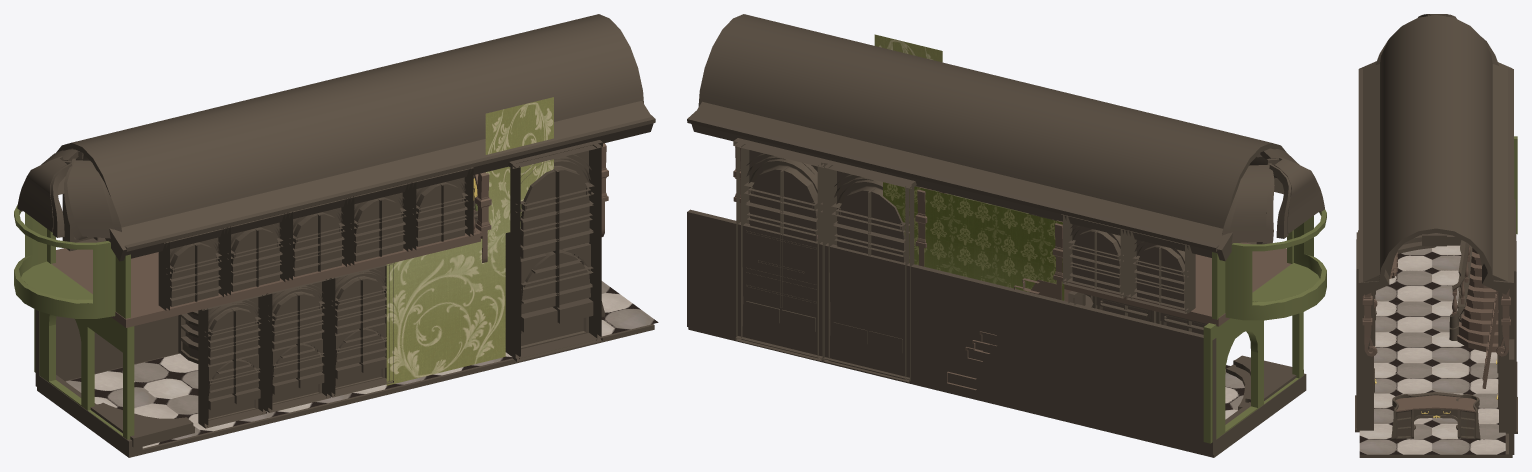
Rendered from salle.fbx.
The picture shows the model from 3 angles, left to right: view 1: azimuth 30°, elevation 25°; view 2: azimuth 150°, elevation 25°; view 3: azimuth 270°, elevation 25°; orthographic projection. The views are drawn at different scales.
Visible parts, largest first — view 1: salle; view 2: salle; view 3: salle.
Boxes of the visible parts, x1=… form: salle: x1=14, y1=14, x2=658, y2=457; salle: x1=687, y1=14, x2=1326, y2=457; salle: x1=1355, y1=14, x2=1517, y2=457.
Bounding box in the file's own units: 9.61 × 4.33 × 2.78.
